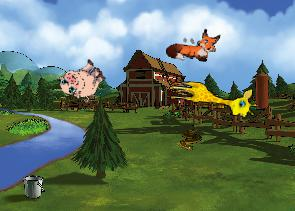fox: (165, 24, 221, 65)
giraffe: (166, 79, 258, 119)
pig: (54, 52, 110, 108)
